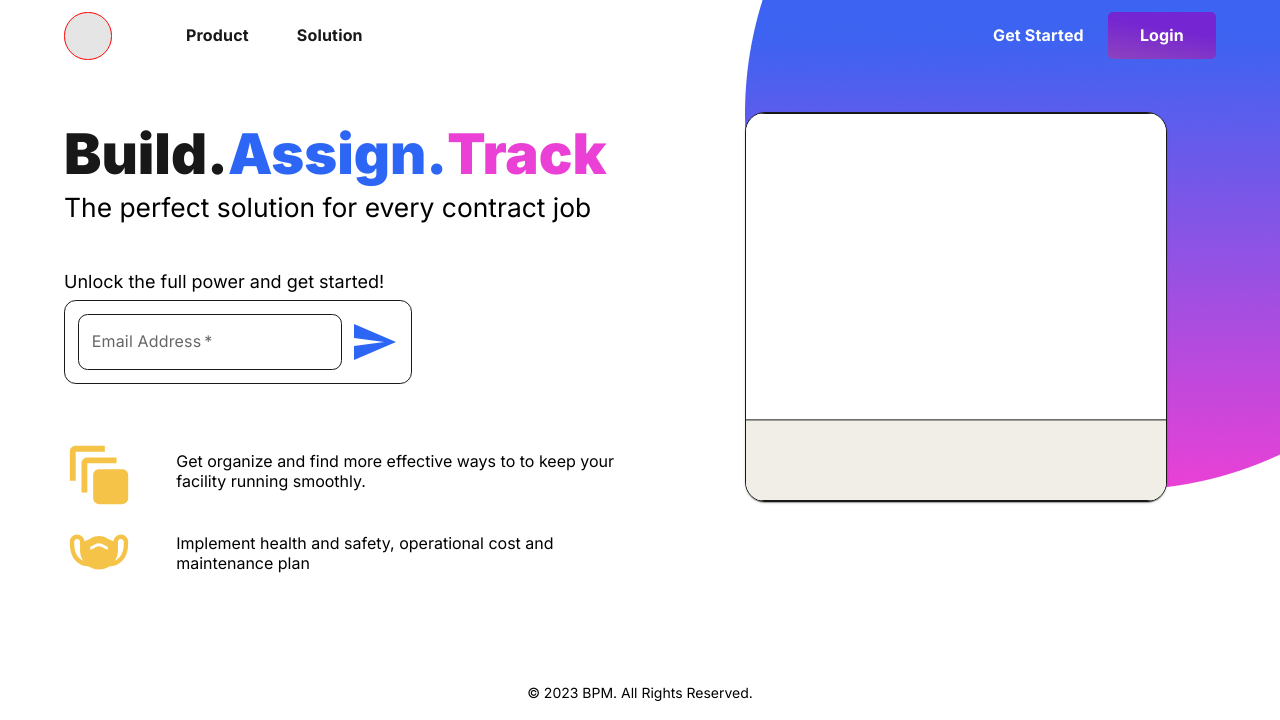
Test case: Homepage spec › Portal Tab
Click the button with test id "login-link": (1162, 36) [1108,12,1216,59]
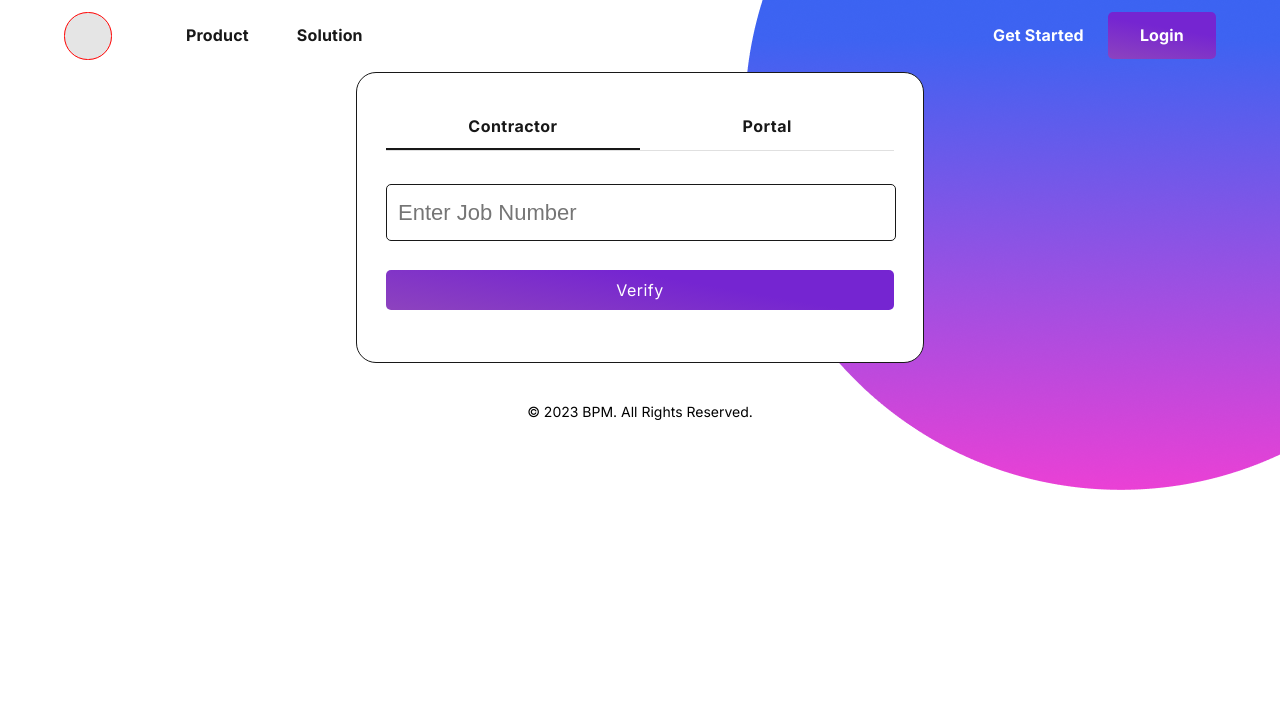
Click the tab "Portal": (767, 126) [640,102,894,150]
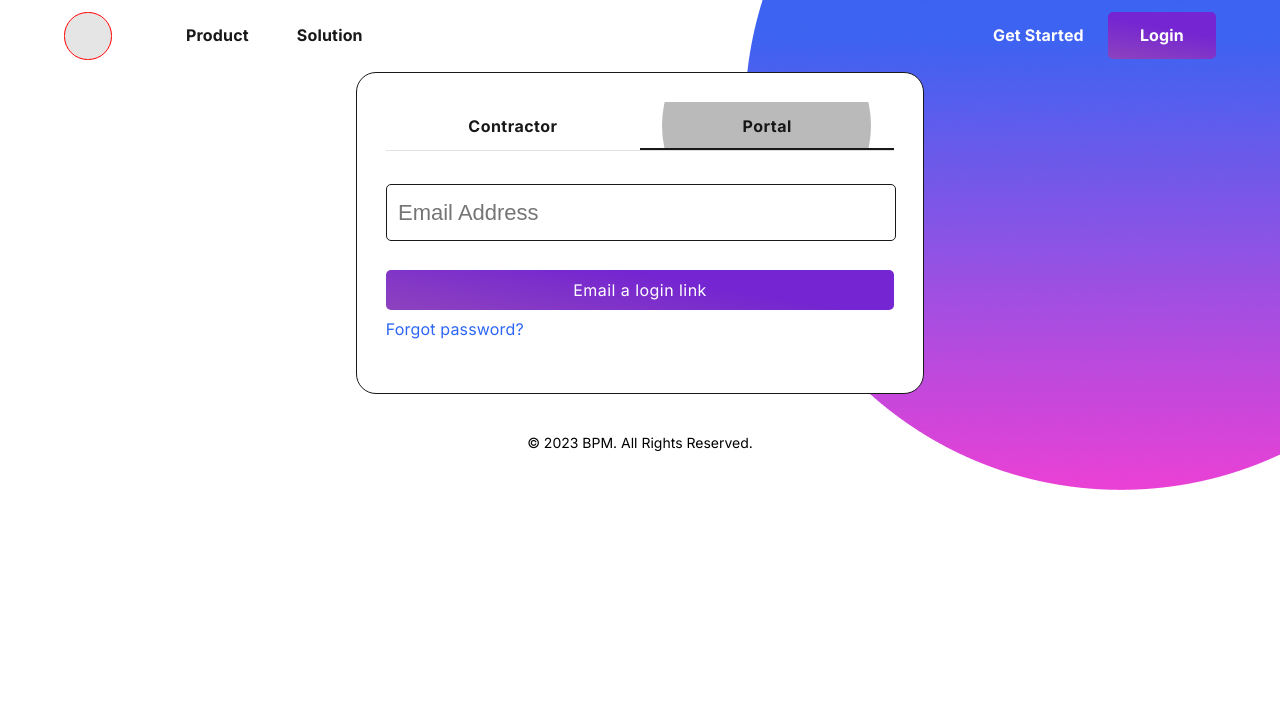
Expected: the field with test id "emailPortalLogin" is shown, [386,184,896,240]
